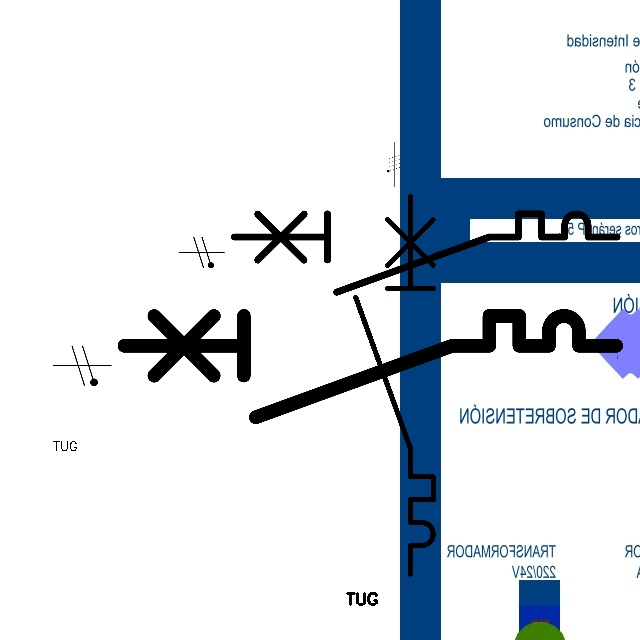interruptor_termomagnetico: (111, 303, 628, 429), (224, 204, 627, 302), (346, 186, 443, 583)
